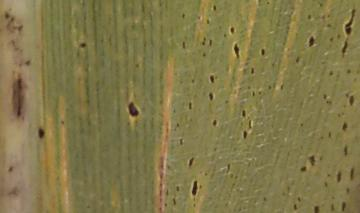tarspot: (125, 97, 144, 123), (341, 8, 357, 37), (231, 39, 242, 62), (34, 123, 47, 142), (305, 33, 318, 49), (206, 70, 217, 87), (76, 39, 90, 52), (333, 169, 344, 185), (191, 179, 200, 198), (347, 91, 357, 108), (348, 163, 356, 183), (205, 90, 216, 103), (210, 116, 220, 130), (241, 128, 251, 142), (307, 152, 317, 166), (340, 119, 349, 134), (186, 98, 195, 113), (298, 163, 310, 174), (311, 200, 321, 213), (186, 155, 196, 168), (341, 142, 349, 158), (258, 45, 267, 59), (239, 108, 250, 118), (248, 65, 257, 77), (340, 200, 348, 213), (326, 68, 336, 78), (211, 3, 219, 15), (229, 24, 236, 36), (345, 66, 352, 77)
